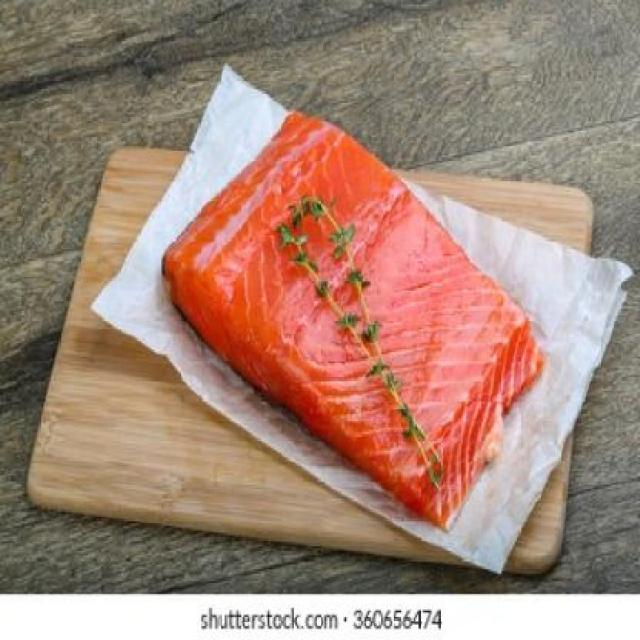salmon: (167, 98, 548, 531)
